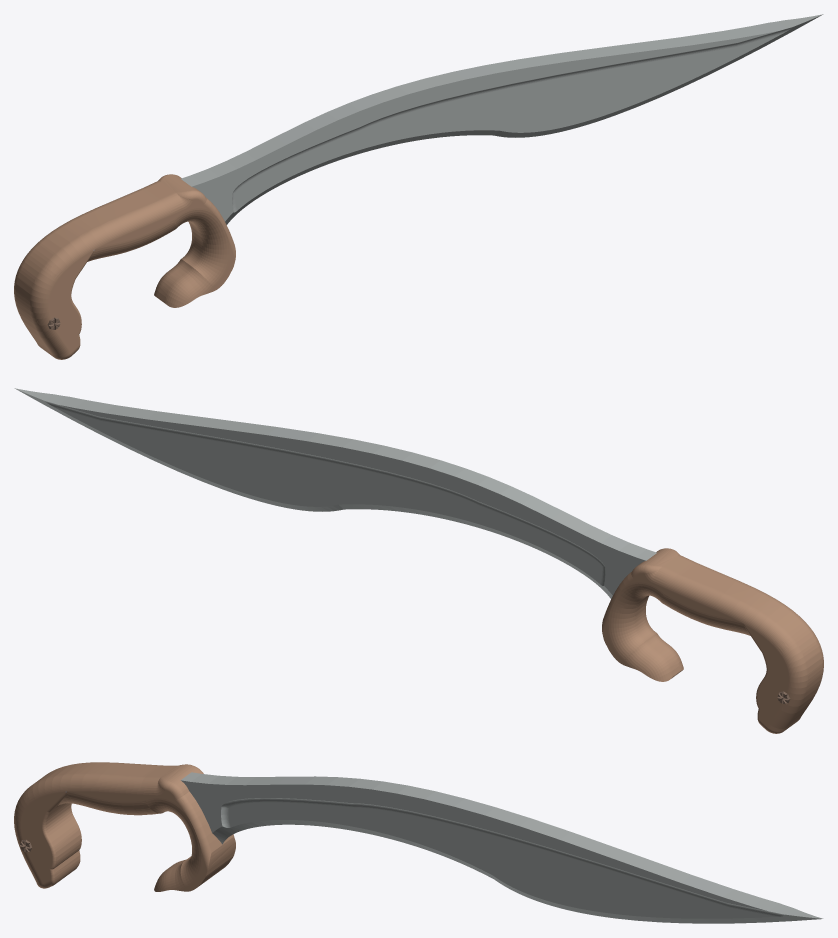
Rendered from ACO_Kukiri.glb.
3 views of the same model, one above another, from view 1: azimuth 30°, elevation 25°; view 2: azimuth 150°, elevation 25°; view 3: azimuth 330°, elevation 25° (orthographic).
Parts seen in each view (by area): view 1: 3MF Object; view 2: 3MF Object; view 3: 3MF Object.
Boxes of the visible parts, x1,y1,x2,y2 form: 3MF Object: (14, 14, 823, 359); 3MF Object: (14, 388, 823, 733); 3MF Object: (14, 762, 823, 923).
Size of the model in its own units: 0.2093 by 0.0445 by 0.0137.
